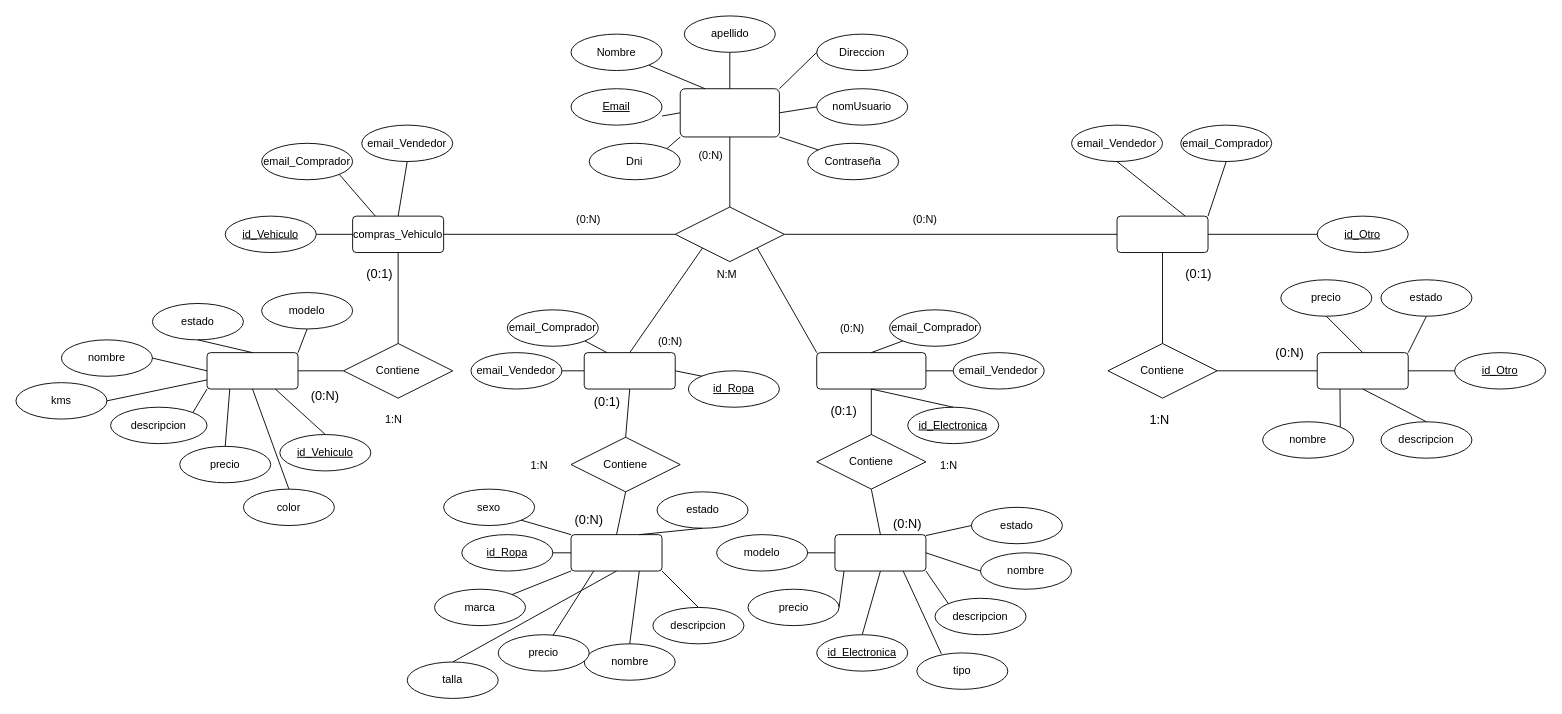
Image size: 1562x714. Some labels were removed from this diagram. The shapes that lost their labels are listed below. From the top down, each one's centre as x and y in pixels, then its label:
At pixel 729 112: "Usuario".
At pixel 729 234: "Sube/Compra".
At pixel 1162 234: "compras_Otro".
At pixel 252 370: "Vehiculo".
At pixel 629 370: "compras_Ropa".
At pixel 871 370: "compras_Electronica".
At pixel 1362 370: "Otro".
At pixel 616 552: "Ropa".
At pixel 880 552: "Electronica".
